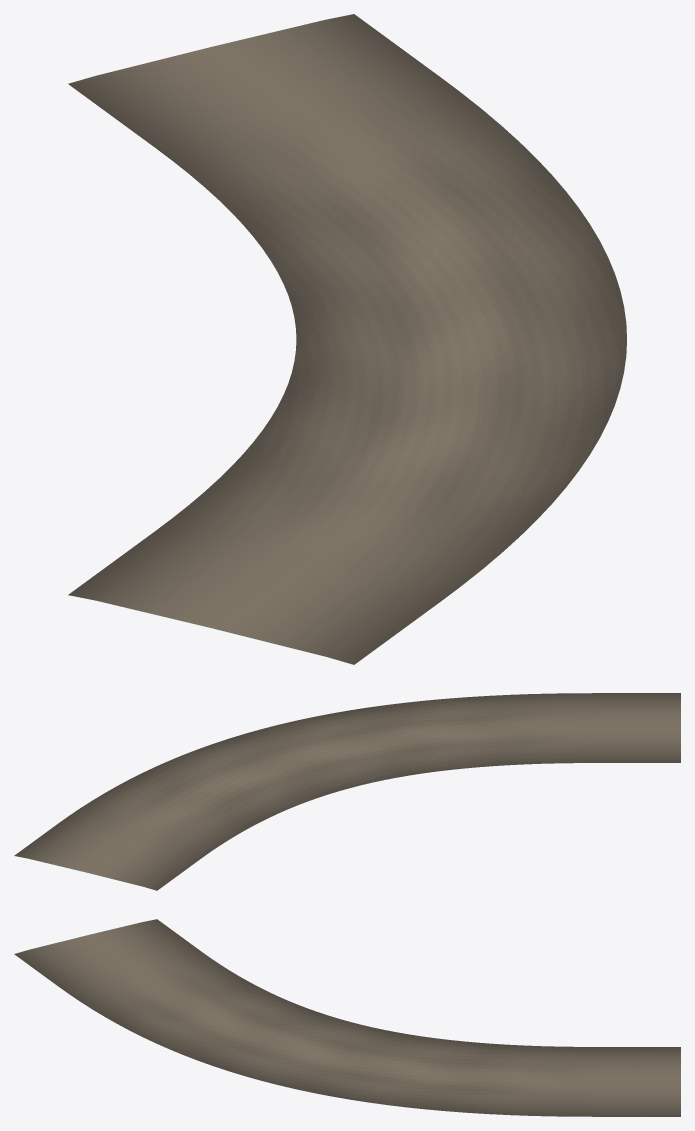
File: hex_path_turn_120.glb
The picture shows the model from 3 angles, top to bottom: view 1: azimuth 30°, elevation 25°; view 2: azimuth 150°, elevation 25°; view 3: azimuth 270°, elevation 25°; orthographic projection. The views are drawn at different scales.
Parts seen in each view (by area): view 1: Independent painted path ribbon; view 2: Independent painted path ribbon; view 3: Independent painted path ribbon.
Part boxes in pixels (x1,y1,x2,y2): Independent painted path ribbon: (68, 14, 626, 664); Independent painted path ribbon: (14, 693, 680, 890); Independent painted path ribbon: (14, 919, 680, 1116).
Size of the model in its own units: 2.6 by 0.006 by 3.71.
Materials: 1 (1 with a texture image).
